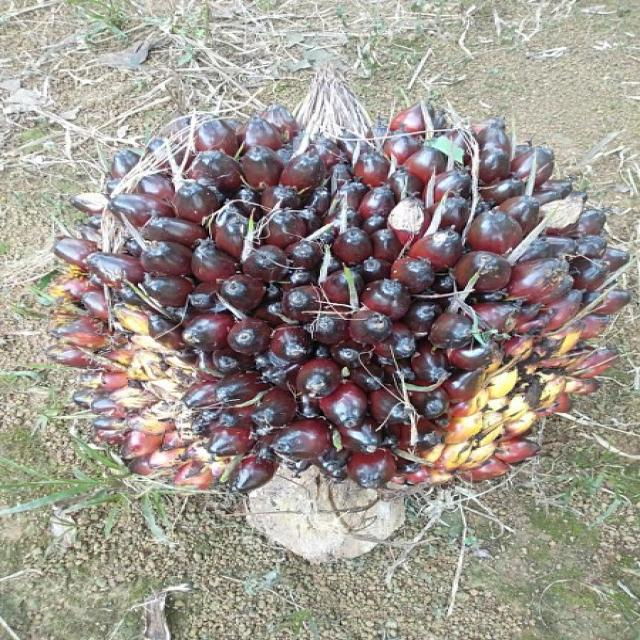fraksi 1: (44, 104, 607, 484)
